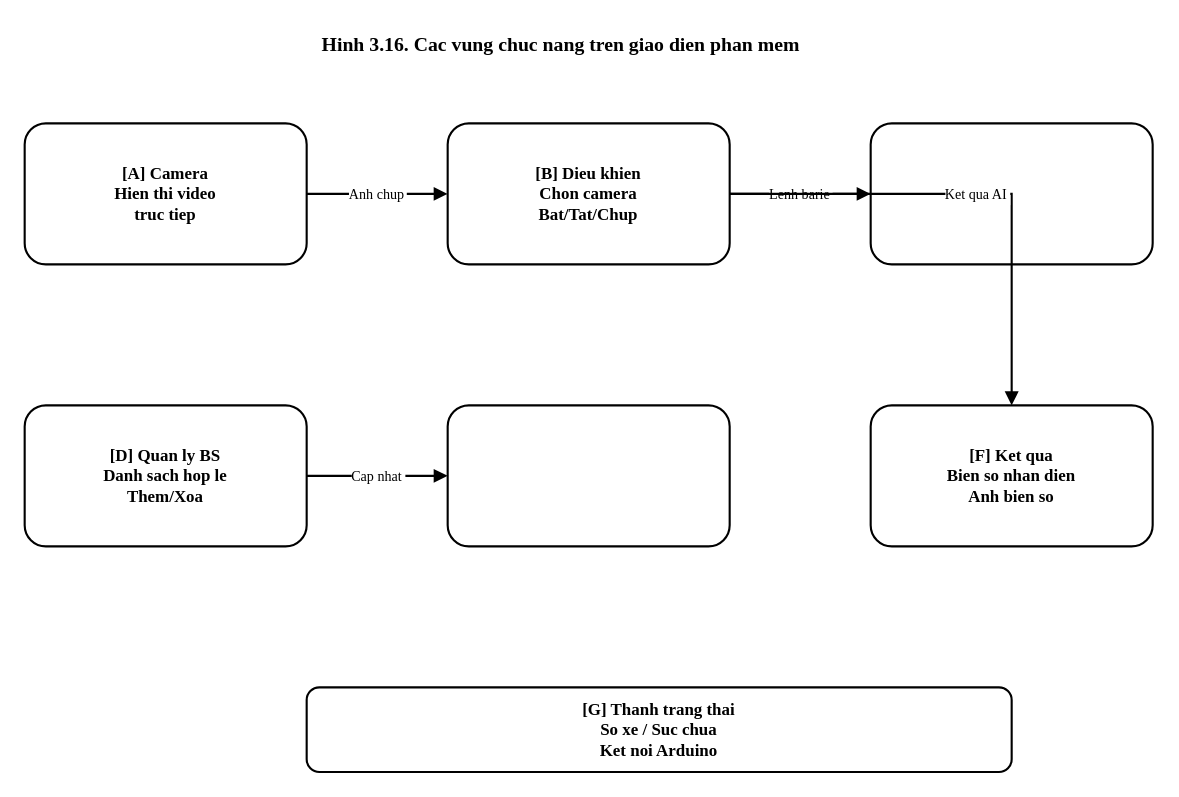
This 1179x797 diagram has some shape labels left out. The shapes that lost their labels are listed below. From the top down, each one's box as (x1, y1, x2, y2) in pixels, then its label:
(869, 122, 1153, 265): [C] Barie Mo/Dong thu cong Trang thai
(446, 404, 730, 547): [E] Log Lich su hoat dong Thoi gian thuc
